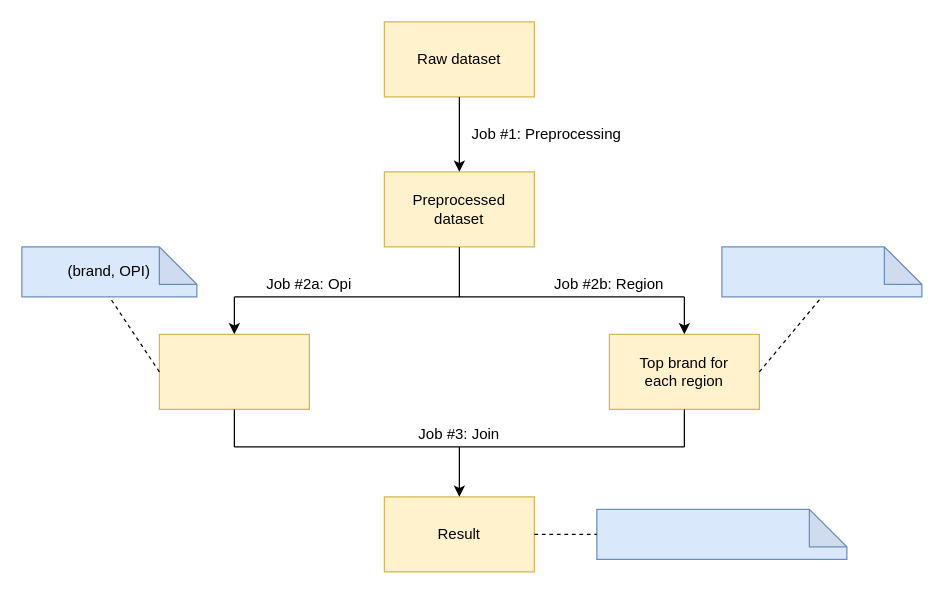
Image size: 944x594. Some labels were removed from this diagram. The centre of each missing label's shape, as x and y in pixels:
"(region, (brand, OPI))" goes at point 721,533.
"(region, brand)" goes at point 821,271.
"Opi for each brand" goes at point 233,371.
